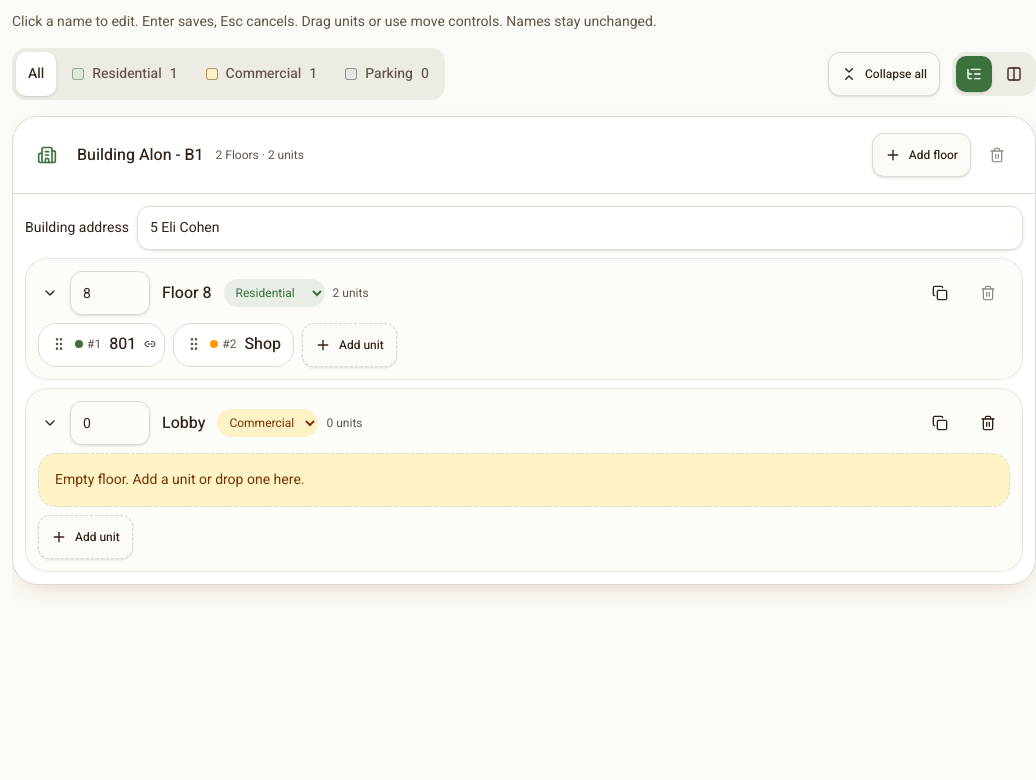
Test: preserves editor-only structure controls in edit mode
Expected: the text "#1" is shown, [87,336,101,352]
Expected: the text "Click a name to edit. Enter saves, Esc cancels. Drag units or use move controls. Names stay unchanged." is shown, [12,11,657,32]
Click the button "Collapse all".
click(884, 74)  # box [828,52,940,96]
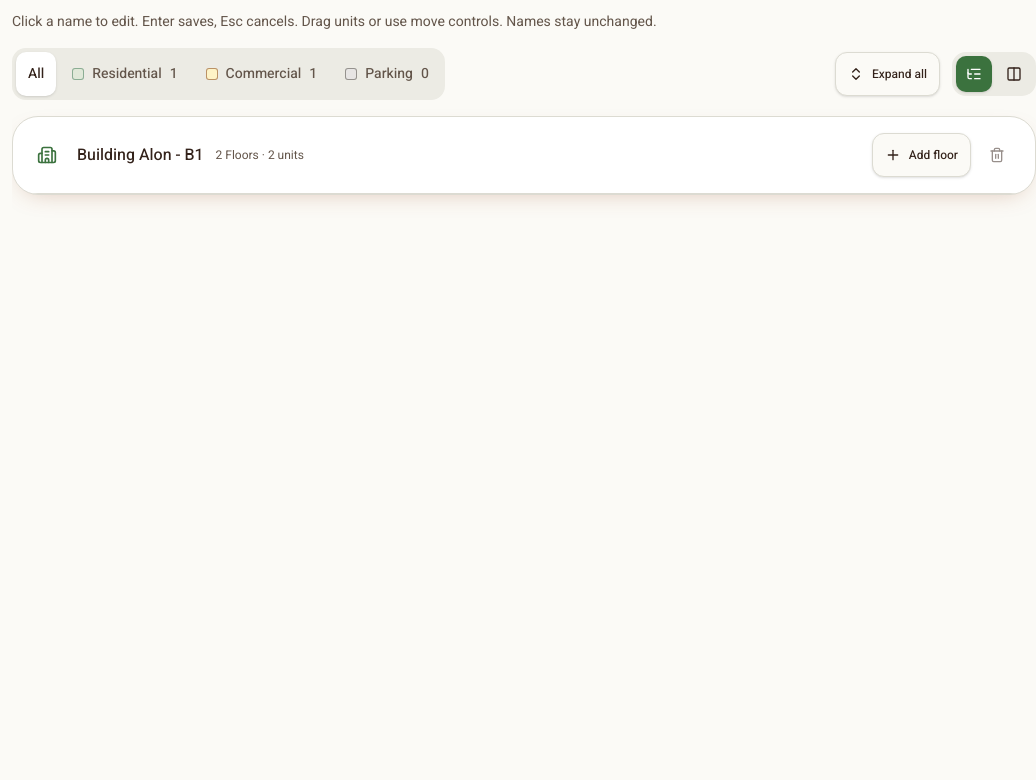
Result: the icon with class "lucide-chevrons-up-down" is shown at [848,66,864,82]
